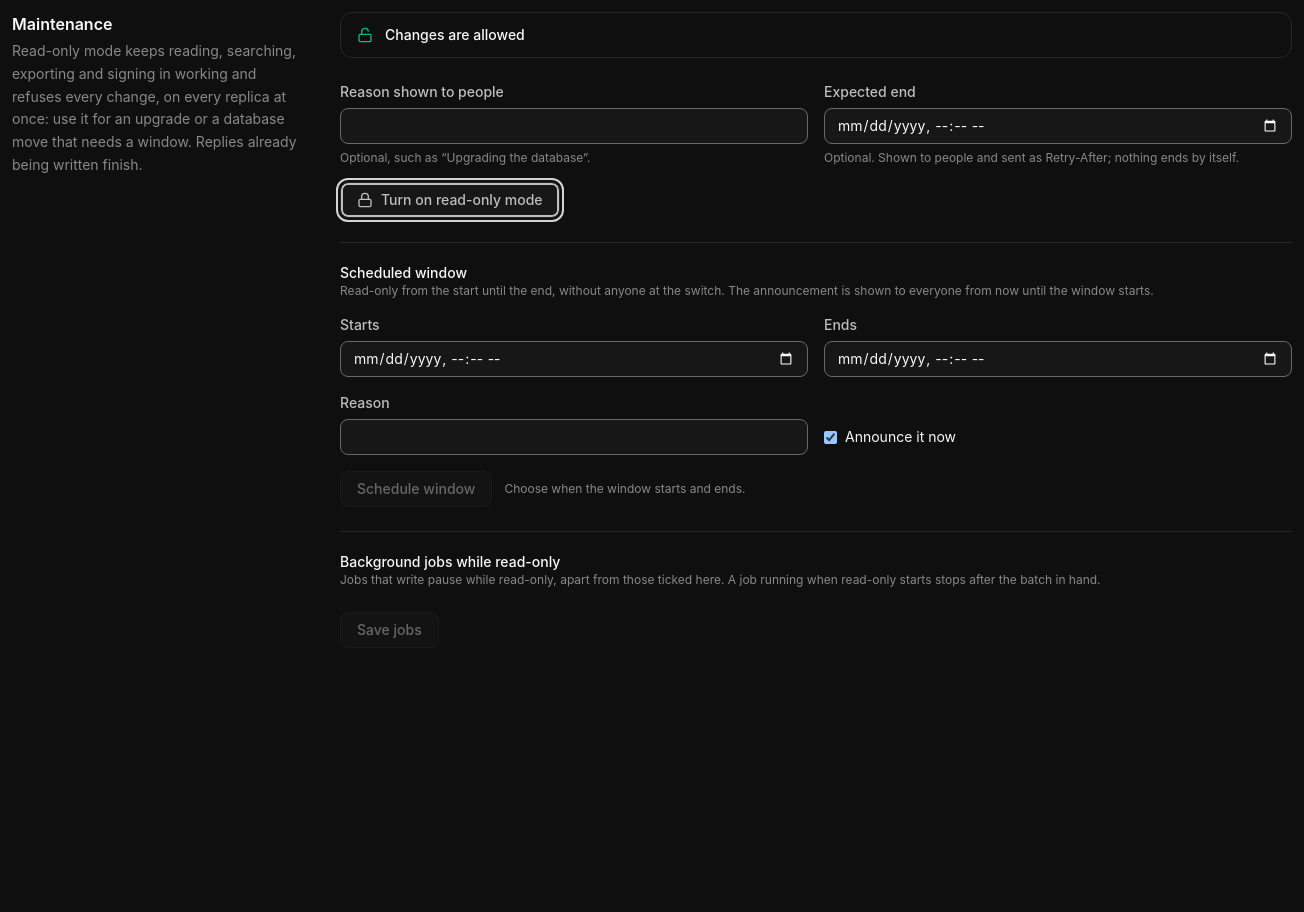
Test: announces what is being confirmed with the group the buttons are in
The width and height of the screenshot is (1304, 912).
Click the button "Turn on read-only mode".
click(450, 200)  # box [340,182,560,218]
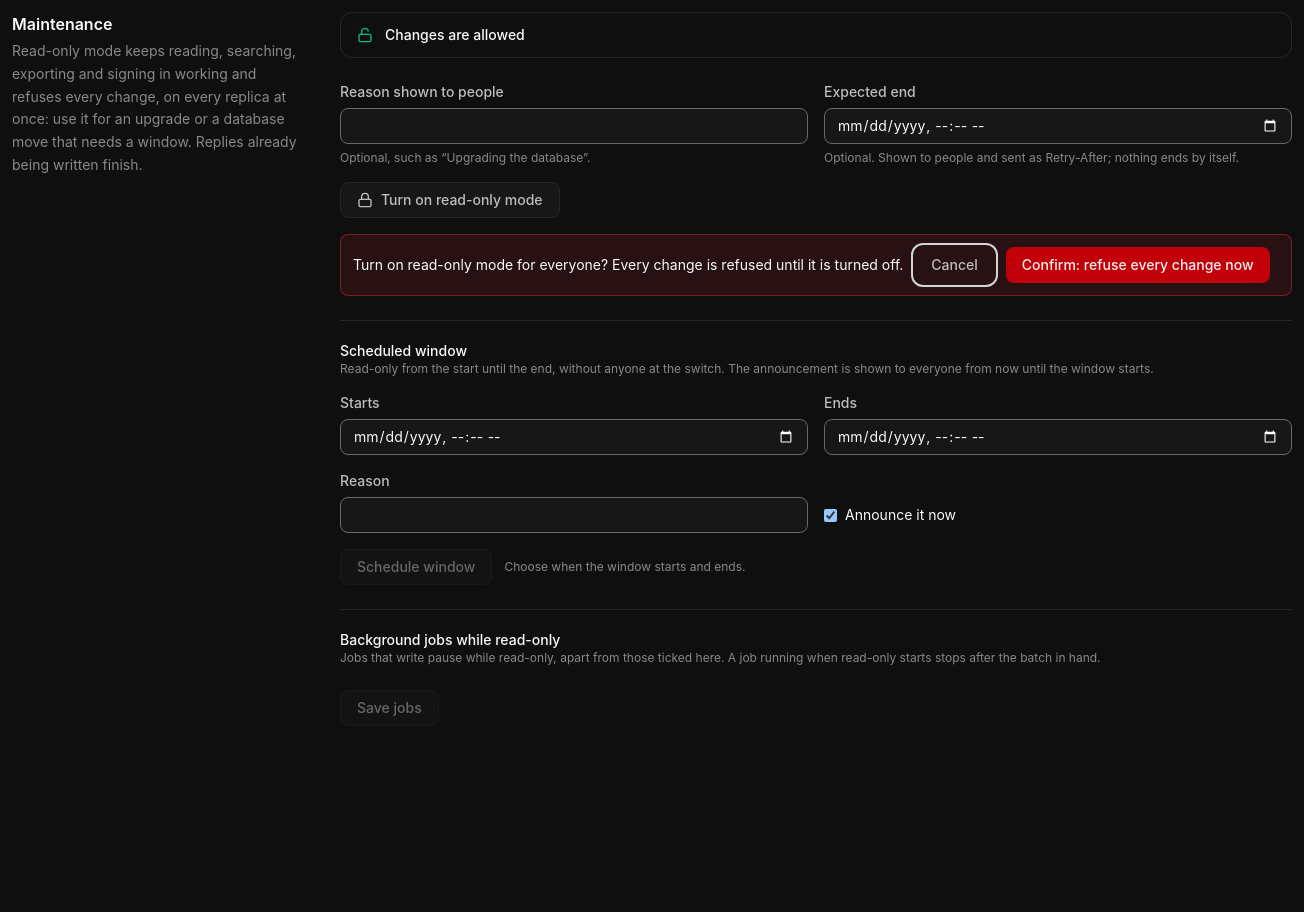
Check: the text "Every change is refused until it is turned off" is shown, box [353,256,903,273]
